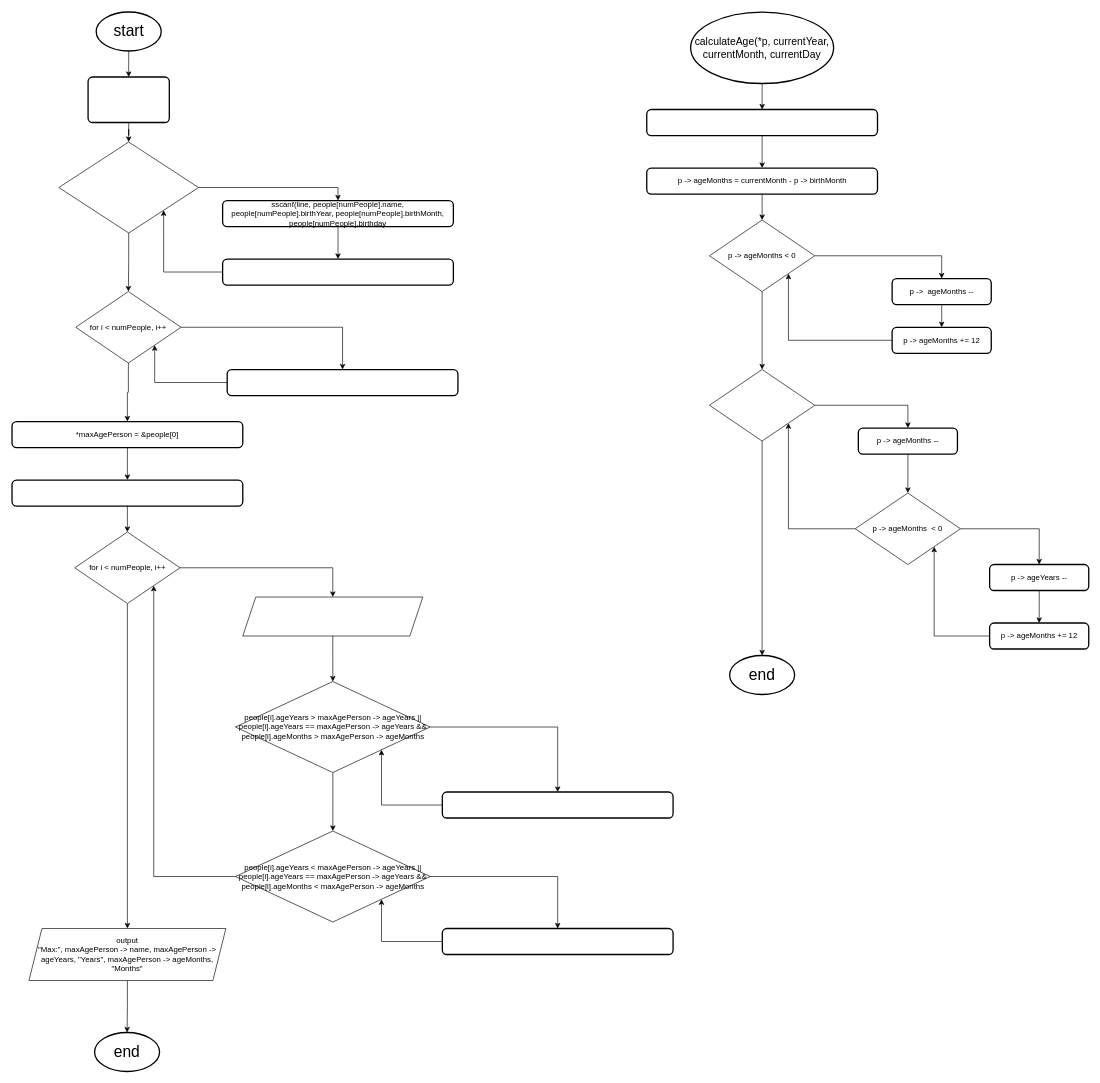
The diagram is 1100 pixels wide and 1083 high, and some of its shapes have lost their labels. The shapes that lost their labels are listed below. From the top down, each one's centre as x and y in pixels, then its label:
(128,99): file = fgets("a15-7.txt)
(762,122): p -> ageYears = currentYear - p -> birthYear
(128,187): while(fgets(line, line, file)
(338,271): numPeople++
(342,382): calculateAge(&people[i], currentYear, currentMonth, currentDay)
(762,405): currentDay < p -> birthDay
(127,492): *minAgePerson = &people[0]
(332,616): people[i].name, people[i].ageYears, "Years", people[i].ageMonths
(557,804): maxAgePerson = &people[i]
(557,941): minAgePerson = &people[i]
